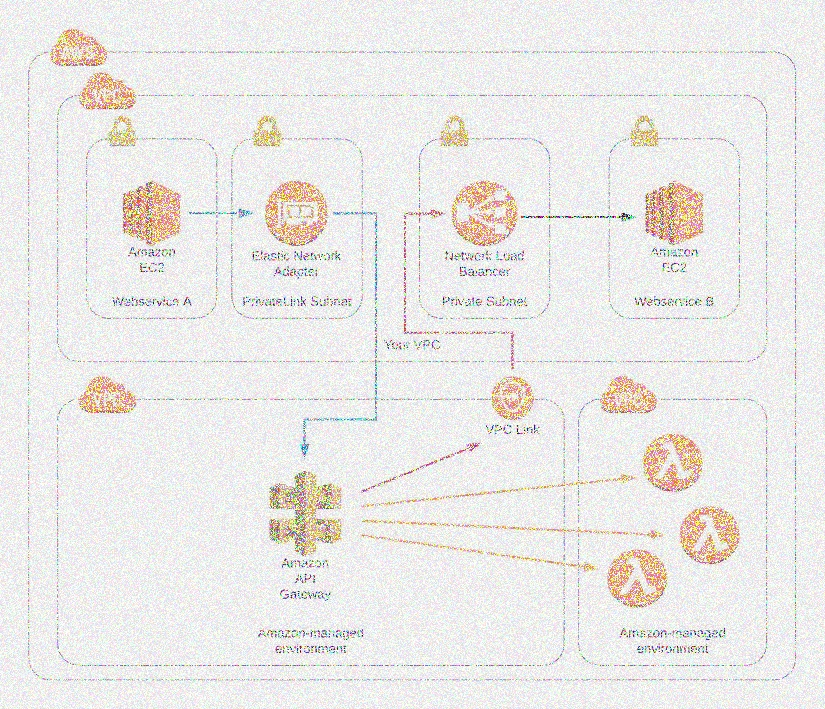API-Gateway: (259, 468, 347, 559)
EC2: (111, 174, 184, 246), (641, 177, 709, 247)
EFS Mount Target: (488, 371, 537, 424)
ELB: (449, 172, 520, 251)
Lambda: (638, 428, 707, 497), (605, 542, 671, 611), (675, 504, 747, 567)
Network Adapter: (263, 177, 332, 247)
Public Subnet: (246, 107, 287, 149), (623, 110, 662, 151), (438, 108, 474, 151), (103, 111, 142, 148)
aws: (48, 21, 114, 68)
